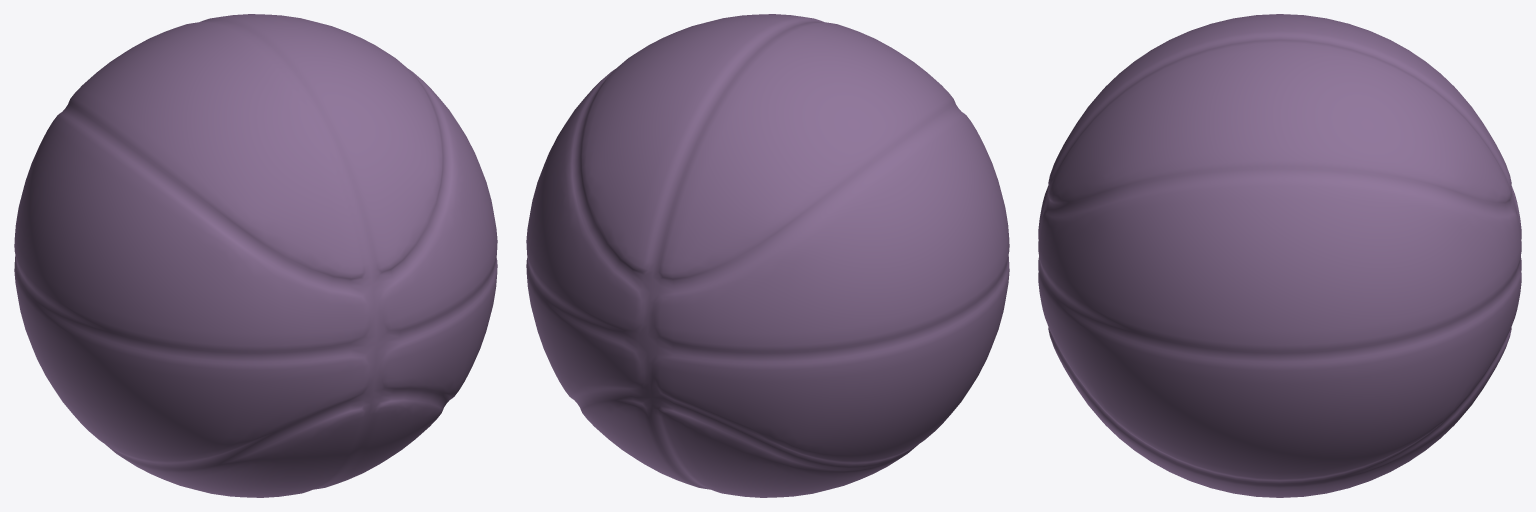
The picture shows the model from 3 angles, left to right: view 1: azimuth 30°, elevation 25°; view 2: azimuth 150°, elevation 25°; view 3: azimuth 270°, elevation 25°; orthographic projection.
Visible parts, largest first — view 1: defaultMaterial; view 2: defaultMaterial; view 3: defaultMaterial.
Part boxes in pixels (x1=…): defaultMaterial: x1=14, y1=14, x2=497, y2=497; defaultMaterial: x1=526, y1=14, x2=1009, y2=497; defaultMaterial: x1=1038, y1=14, x2=1521, y2=497.
Size of the model in its own units: 0.9997 by 0.9997 by 1.
